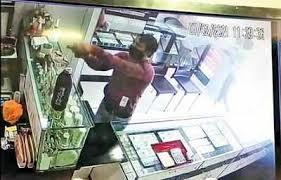weapon: (61, 40, 87, 58)
